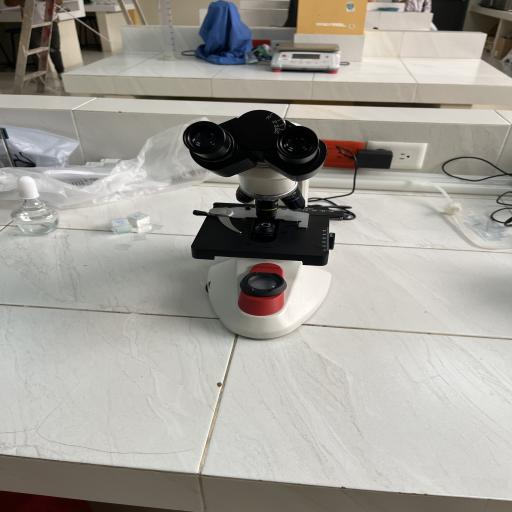Microscopio_Binocular: (162, 99, 360, 349)
